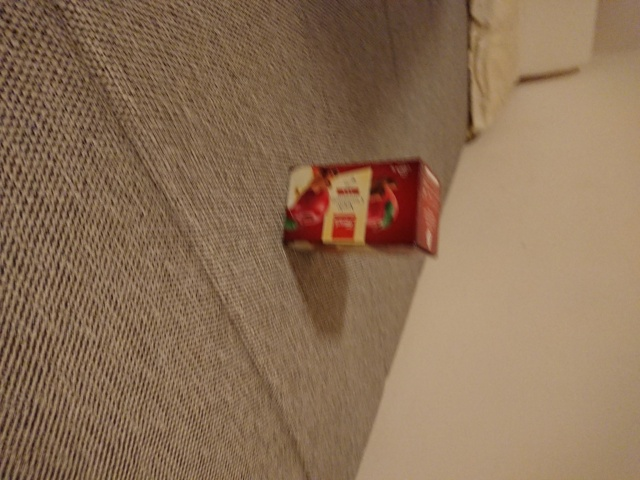Franck Apple Cinnamon Tea 60g: (278, 153, 445, 261)
